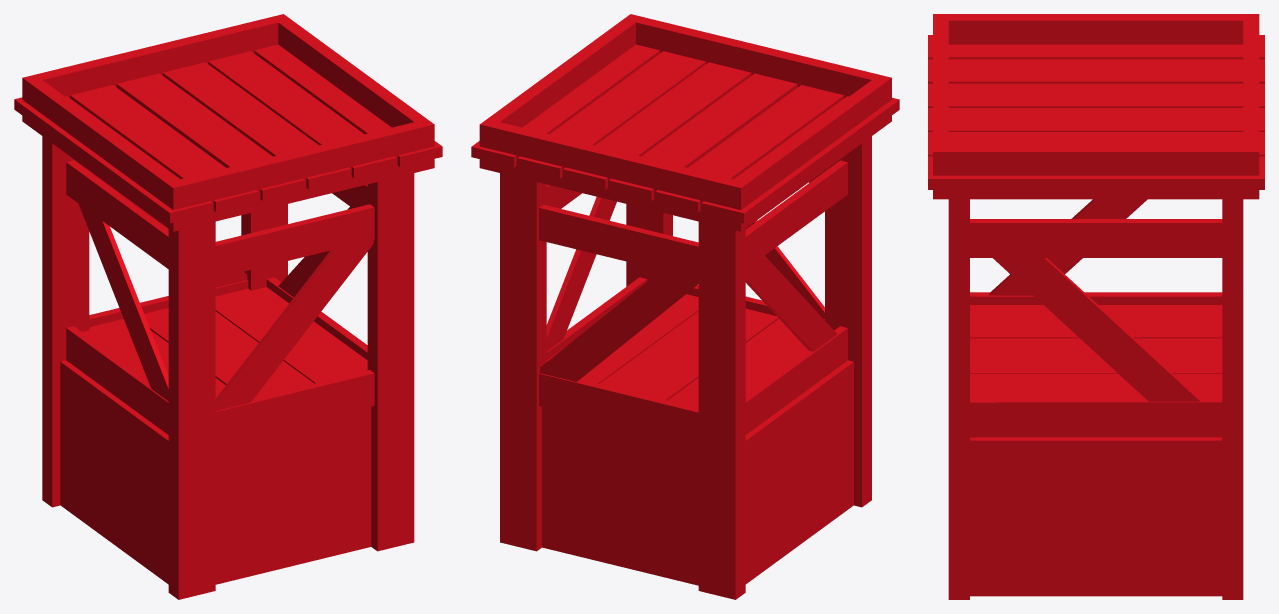
The model's file is Tour2 lvl2.fbx.
3 views of the same model, side by side, from view 1: azimuth 30°, elevation 25°; view 2: azimuth 150°, elevation 25°; view 3: azimuth 270°, elevation 25° (orthographic). The views are drawn at different scales.
Visible parts, largest first — view 1: Cube.003, Cube.027, Cube.004, Cube.006, Cube.024, Cube.008, Cube.020, Cube.015, Cube.030, Cube.010, Cube.031, Cube.032 (+14 smaller); view 2: Cube.003, Cube.026, Cube.008, Cube.024, Cube.007, Cube.004, Cube.013, Cube.030, Cube.012, Cube.032, Cube.031, Cube.029 (+15 smaller); view 3: Cube.025, Cube.003, Cube.011, Cube.014, Cube.006, Cube.007, Cube.019, Cube.032, Cube.030, Cube.031, Cube.022, Cube.021 (+7 smaller).
Part boxes in pixels (box(x1,y1,x2,y2)): Cube.003: box(22, 14, 434, 209); Cube.027: box(215, 406, 371, 584); Cube.004: box(168, 221, 215, 599); Cube.006: box(367, 173, 414, 551); Cube.024: box(60, 360, 168, 584); Cube.008: box(42, 136, 89, 507); Cube.020: box(215, 240, 373, 410); Cube.015: box(215, 204, 374, 278); Cube.030: box(116, 73, 305, 200); Cube.010: box(215, 370, 374, 443); Cube.031: box(162, 62, 351, 189); Cube.032: box(70, 85, 258, 211); Cube.003: box(479, 14, 891, 209); Cube.026: box(542, 407, 698, 585); Cube.008: box(698, 221, 745, 599); Cube.024: box(745, 360, 853, 584); Cube.007: box(500, 173, 546, 551); Cube.004: box(825, 136, 871, 507); Cube.013: box(539, 204, 698, 278); Cube.030: box(608, 73, 797, 200); Cube.012: box(539, 373, 698, 444); Cube.032: box(655, 85, 844, 212); Cube.031: box(562, 62, 751, 189); Cube.029: box(517, 51, 705, 178); Cube.025: box(970, 437, 1222, 596); Cube.003: box(933, 14, 1259, 175); Cube.011: box(970, 398, 1222, 437); Cube.014: box(970, 219, 1222, 257); Cube.006: box(948, 199, 969, 599); Cube.007: box(1222, 199, 1243, 599); Cube.019: box(993, 258, 1200, 401); Cube.032: box(928, 59, 1264, 83); Cube.030: box(928, 83, 1264, 107); Cube.031: box(928, 108, 1264, 131); Cube.022: box(970, 338, 1222, 373); Cube.021: box(970, 305, 1222, 338).
Bounding box in the file's own units: 82.21 × 121 × 81.19.
